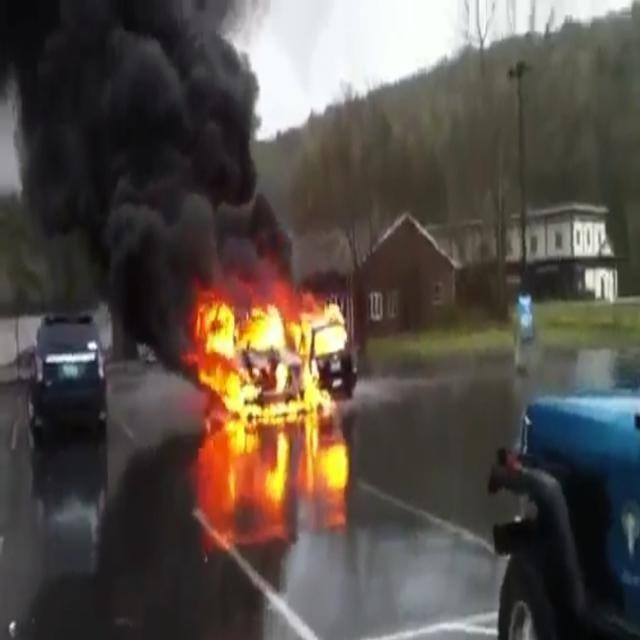fire: (201, 257, 293, 412), (294, 276, 354, 409)
